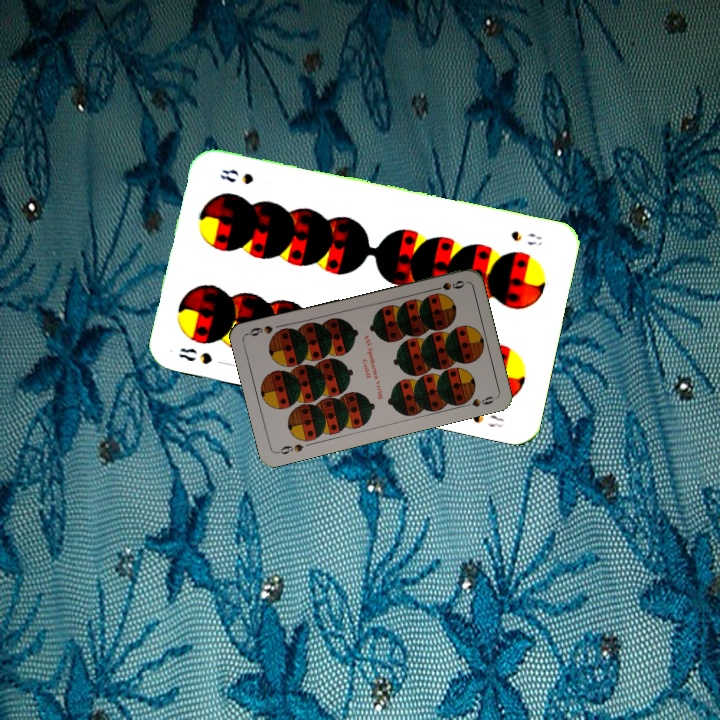S8: (175, 343, 215, 367), (507, 227, 545, 249)
S9: (427, 276, 467, 294), (273, 440, 306, 457)
